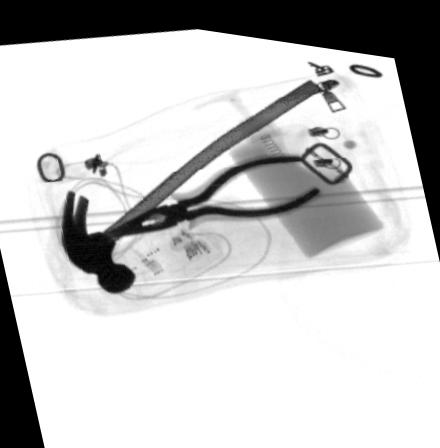Hammer: (60, 68, 323, 290)
Pliers: (107, 142, 323, 234)
